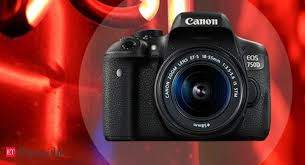camera: (103, 18, 269, 141)
